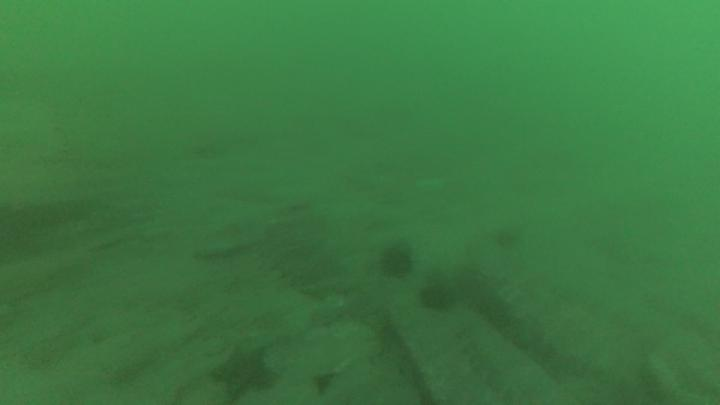echinus: (379, 249, 411, 279), (422, 285, 453, 310)
starfish: (213, 347, 272, 399)
